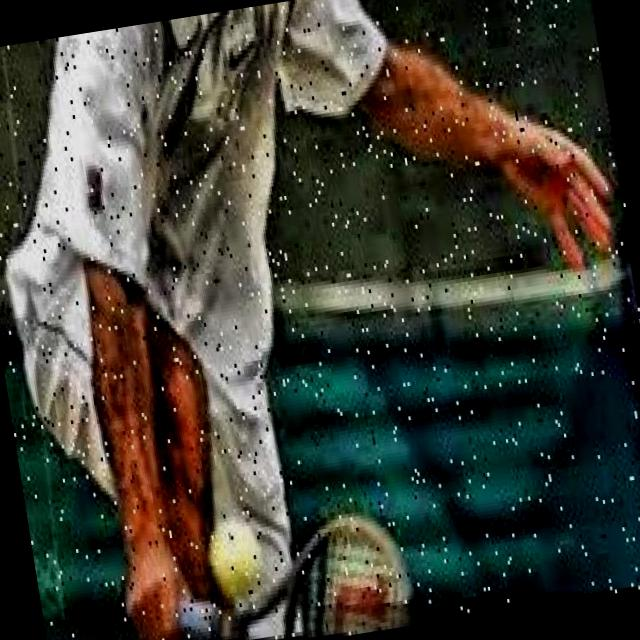Tennis Ball: (202, 512, 264, 605)
